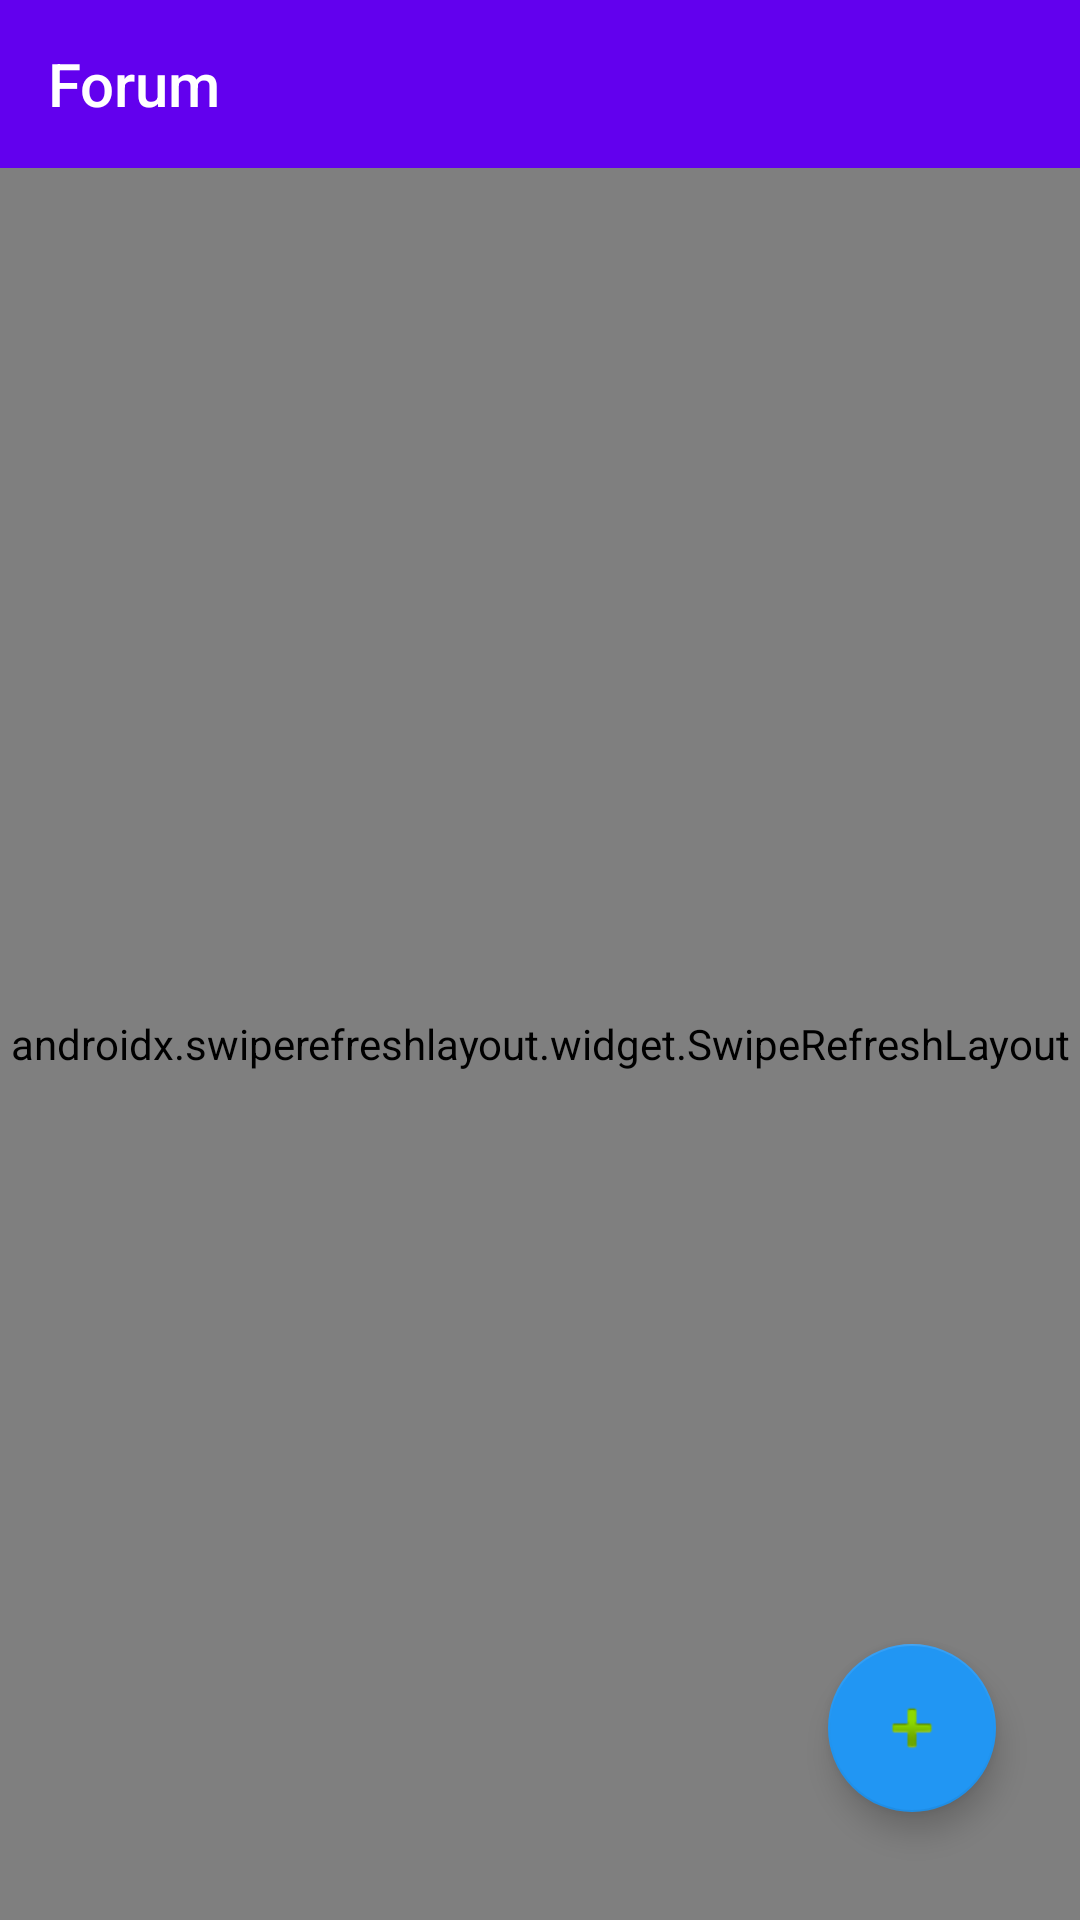

Screen size 1080w x 1920h. Icon name, then its center in pixels as point (x, y):
add: point (912, 1728)
